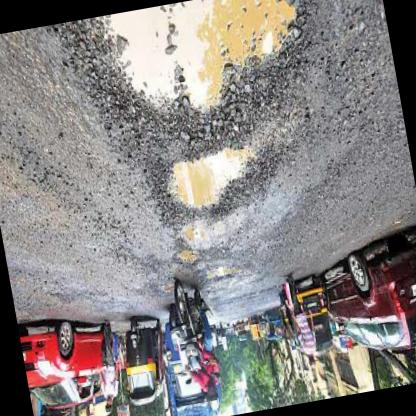pothole: (65, 0, 333, 159), (148, 145, 276, 229), (178, 222, 212, 253), (202, 261, 238, 286), (172, 245, 202, 274)
